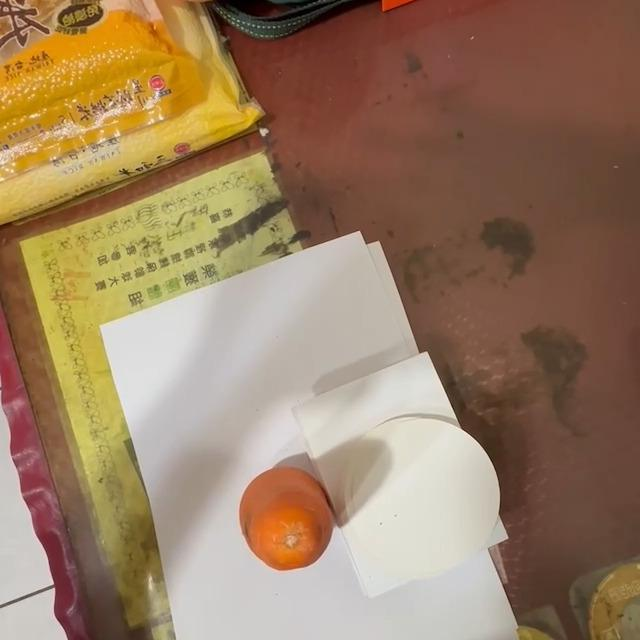carrot: (237, 468, 337, 573)
